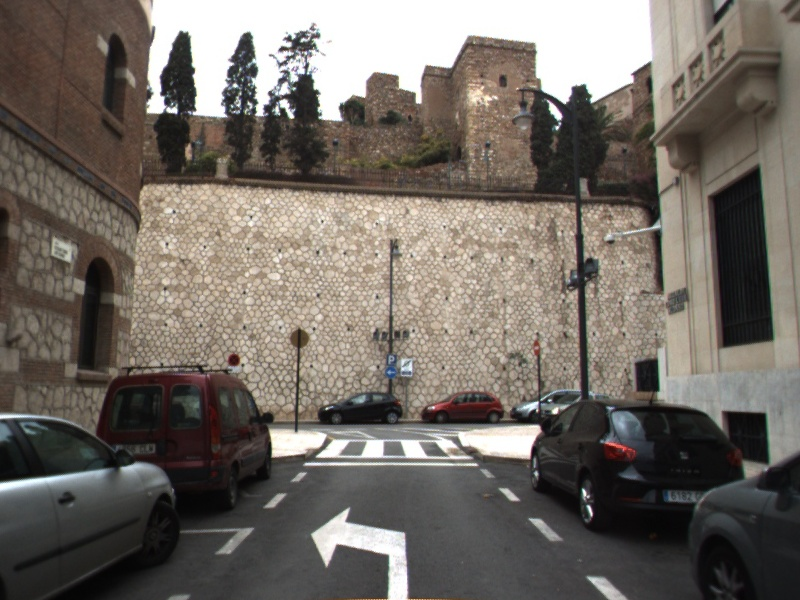LEFT: (308, 503, 411, 600)
